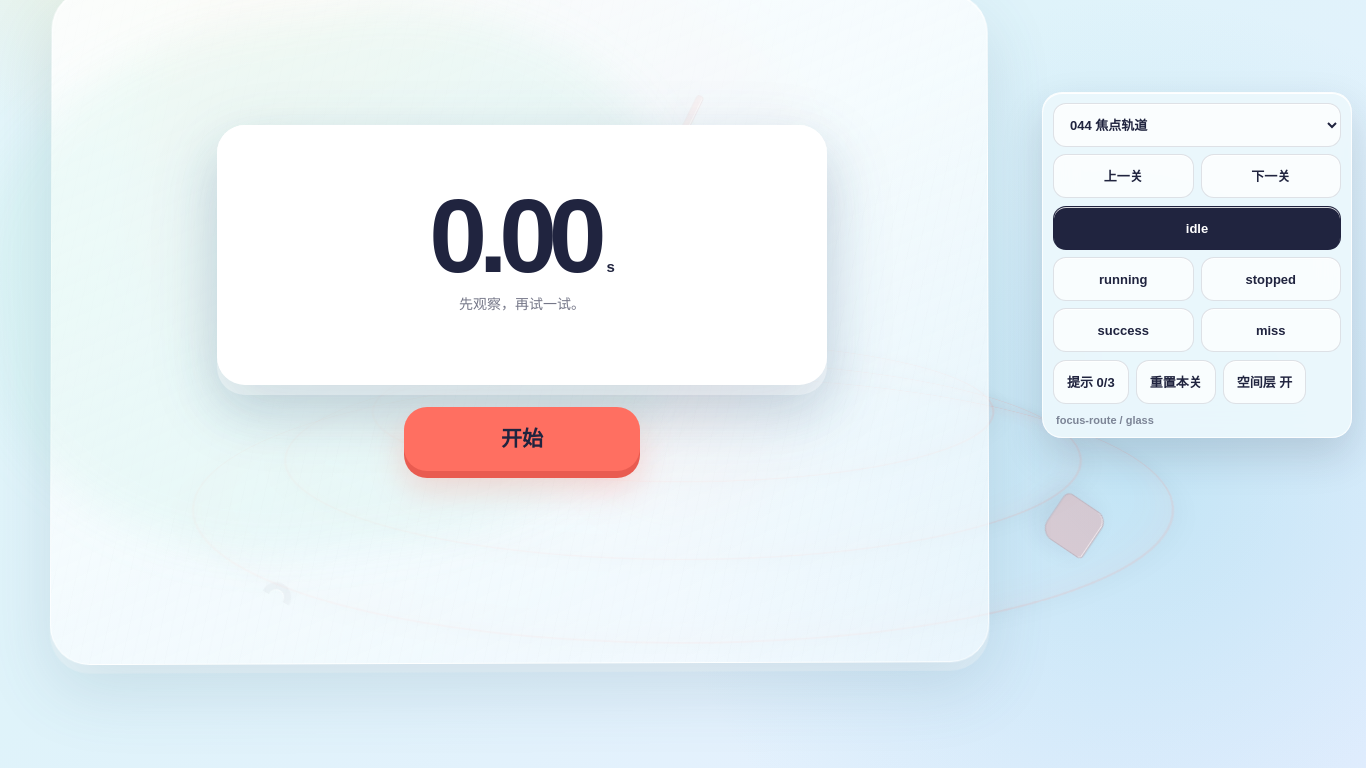
FULL/100 isolated spatial review lab › exposes five review phases while keeping the primary action semantic
This screenshot has width=1366, height=768.
(page scrolled)
Expected: the button "idle" is shown, [1053, 206, 1341, 250]
Expected: the button "running" is shown, [1053, 257, 1194, 301]
Click the button "开始".
click(522, 439)  # box [404, 407, 640, 471]
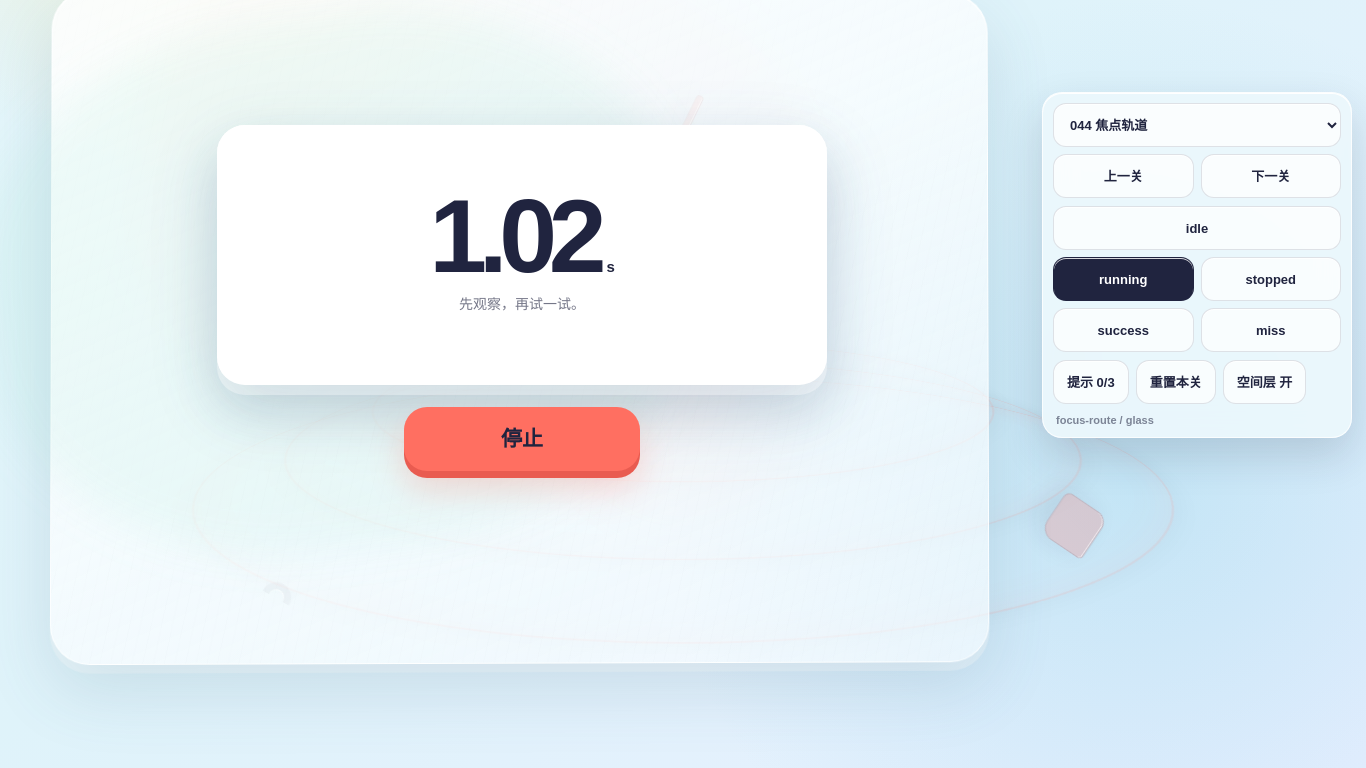
Now the button "停止" is shown, box [404, 407, 640, 471]
